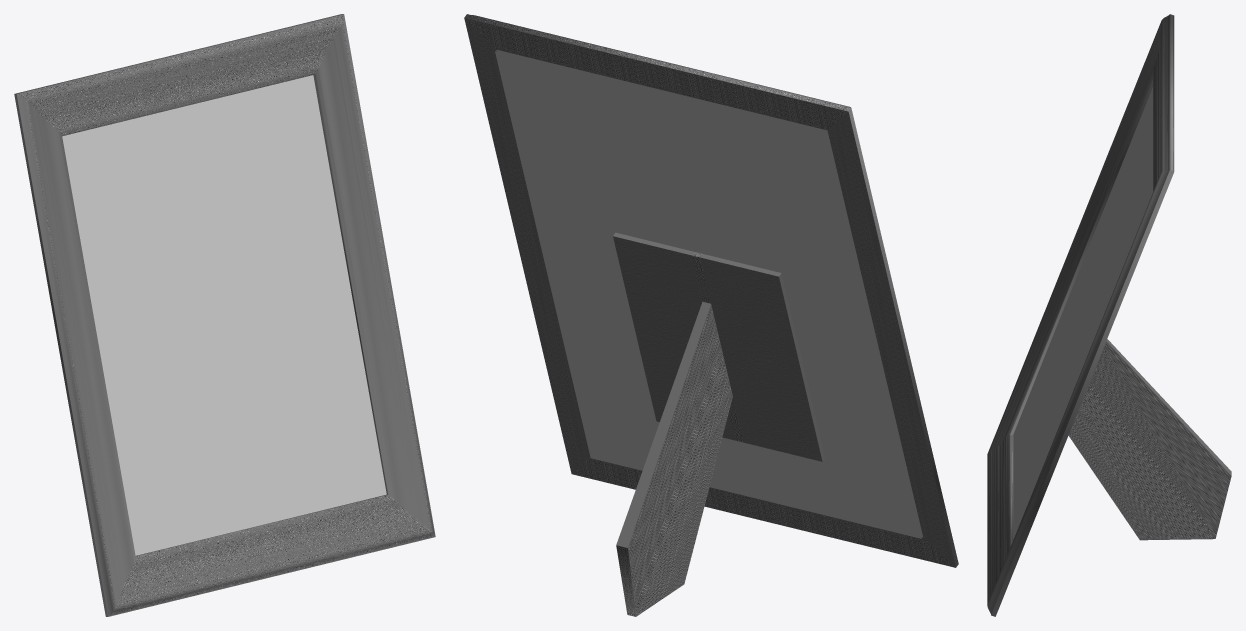
The model's file is M_Frame_Small.FBX.
The picture shows the model from 3 angles, left to right: view 1: azimuth 30°, elevation 25°; view 2: azimuth 150°, elevation 25°; view 3: azimuth 270°, elevation 25°; orthographic projection. The views are drawn at different scales.
Visible parts, largest first — view 1: Small_Frame; view 2: Small_Frame; view 3: Small_Frame.
Part boxes in pixels (box(x1,y1,x2,y2)): Small_Frame: box(14, 14, 435, 616); Small_Frame: box(464, 14, 958, 616); Small_Frame: box(987, 14, 1231, 616).
Size of the model in its own units: 16.88 by 22.52 by 11.16.
